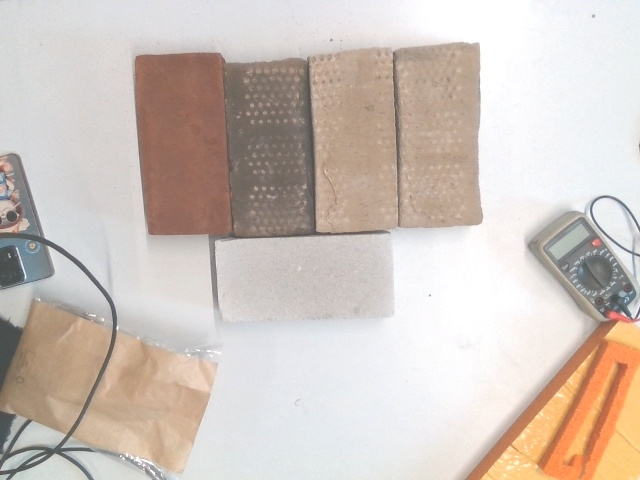brick: (134, 53, 225, 238), (308, 52, 397, 232), (215, 233, 395, 321), (396, 45, 481, 227), (227, 62, 309, 235)
